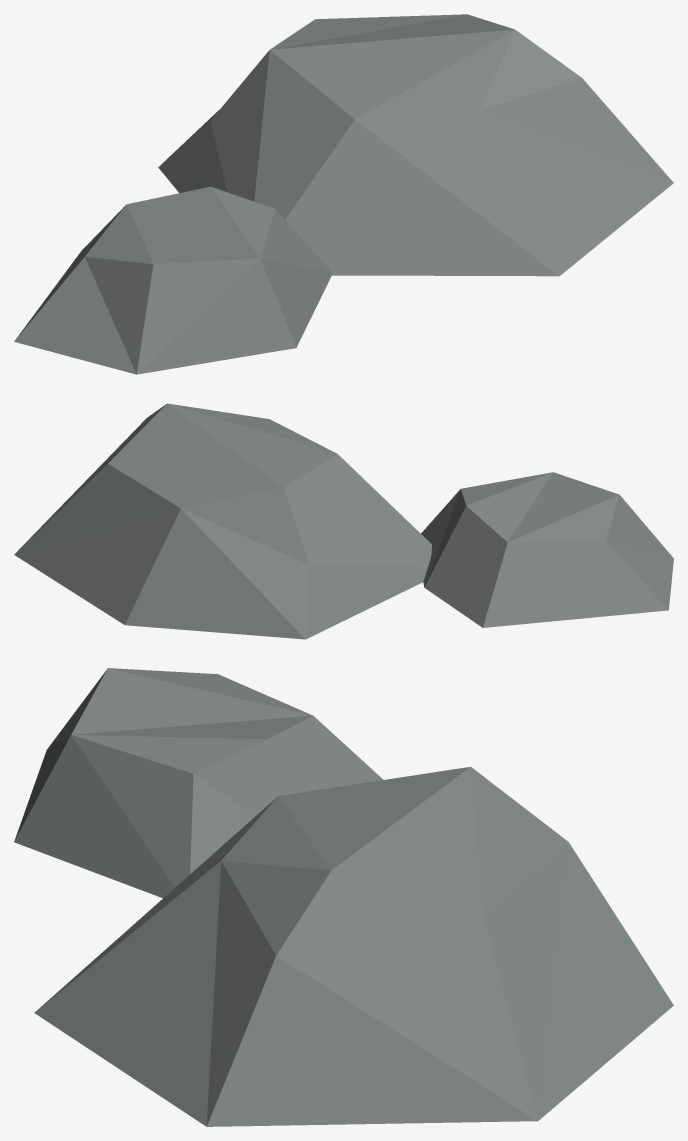
The model's file is SM_Generic_Small_Rocks_03.fbx.
The picture shows the model from 3 angles, top to bottom: view 1: azimuth 30°, elevation 25°; view 2: azimuth 150°, elevation 25°; view 3: azimuth 270°, elevation 25°; orthographic projection. The views are drawn at different scales.
Parts seen in each view (by area): view 1: SM_Generic_Small_Rocks_03; view 2: SM_Generic_Small_Rocks_03; view 3: SM_Generic_Small_Rocks_03.
Boxes of the visible parts, x1,y1,x2,y2 form: SM_Generic_Small_Rocks_03: [14, 14, 673, 374]; SM_Generic_Small_Rocks_03: [14, 403, 673, 639]; SM_Generic_Small_Rocks_03: [14, 668, 673, 1126].
Bounding box in the file's own units: 48.22 × 10.16 × 32.5.
